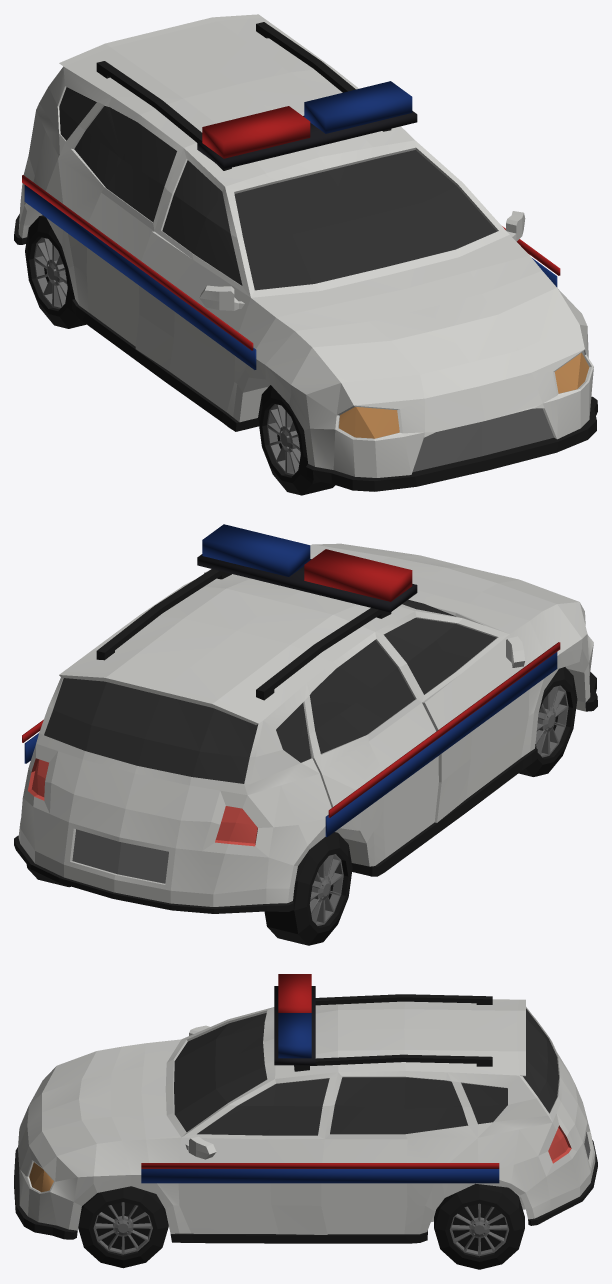
File: police_suv.glb
3 views of the same model, one above another, from view 1: azimuth 30°, elevation 25°; view 2: azimuth 150°, elevation 25°; view 3: azimuth 270°, elevation 25° (orthographic). The views are drawn at different scales.
Parts seen in each view (by area): view 1: geometry_0; view 2: geometry_0; view 3: geometry_0.
Boxes of the visible parts, left/top/right/bottom form: geometry_0: left=14, top=14, right=597, bottom=495; geometry_0: left=14, top=524, right=597, bottom=945; geometry_0: left=14, top=974, right=597, bottom=1269.
Size of the model in its own units: 2.11 by 1.66 by 4.21.
